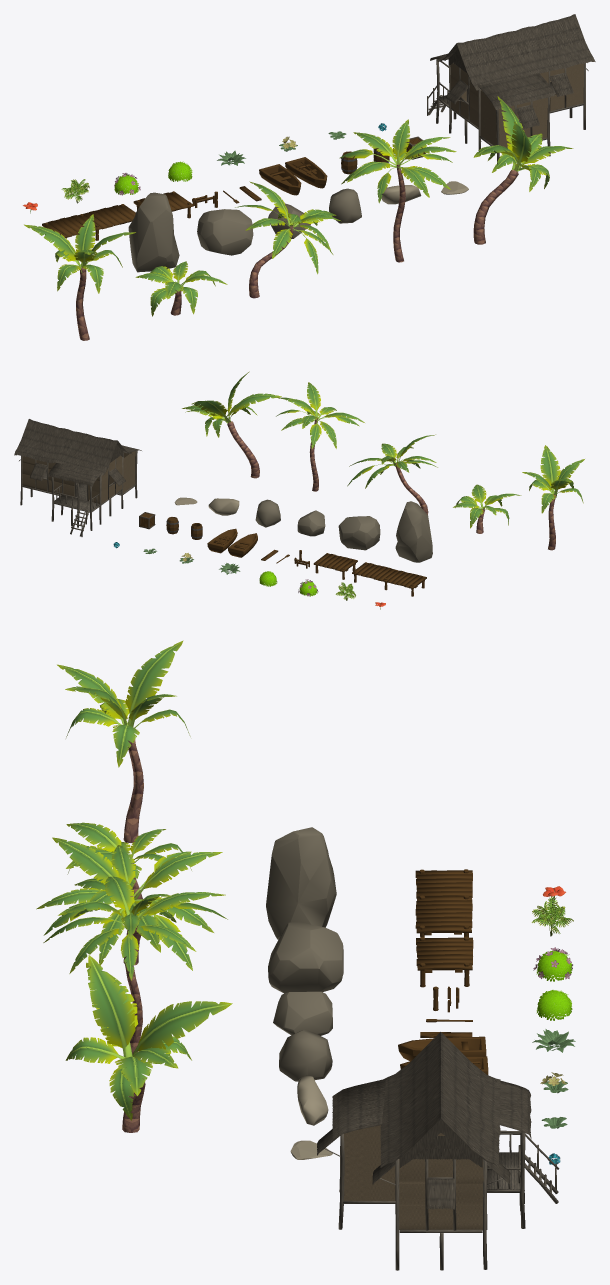
Rendered from TropicalBeachPack.dae.
The picture shows the model from 3 angles, top to bottom: view 1: azimuth 30°, elevation 25°; view 2: azimuth 150°, elevation 25°; view 3: azimuth 270°, elevation 25°; orthographic projection. The views are drawn at different scales.
Parts seen in each view (by area): view 1: StrawShack, PalmTree2, PalmTree1, Rock6, PalmTree5, PalmTree3, Rock3, PalmTree4, DockLong, Rock1, Boat2, Boat1 (+4 smaller); view 2: StrawShack, PalmTree2, PalmTree1, PalmTree5, Rock6, PalmTree3, Rock3, DockLong, PalmTree4, Rock2, DockShort, Rock1 (+3 smaller); view 3: StrawShack, PalmTree1, PalmTree3, PalmTree5, Rock6, PalmTree2, Rock3, DockLong, Rock2, Rock1, PalmTree4, DockShort (+5 smaller).
Part boxes in pixels (box(x1,y1,x2,y2)): StrawShack: box(427, 14, 595, 164); PalmTree2: box(339, 119, 456, 262); PalmTree1: box(473, 96, 573, 244); Rock6: box(128, 192, 179, 272); PalmTree5: box(24, 214, 135, 340); PalmTree3: box(235, 181, 341, 298); Rock3: box(197, 209, 253, 255); PalmTree4: box(135, 261, 227, 316); DockLong: box(42, 204, 135, 240); Rock1: box(329, 188, 361, 223); Boat2: box(259, 164, 301, 195); Boat1: box(285, 157, 327, 188); StrawShack: box(14, 419, 141, 536); PalmTree2: box(276, 382, 364, 491); PalmTree1: box(182, 371, 281, 478); PalmTree5: box(522, 445, 584, 550); Rock6: box(395, 501, 432, 562); PalmTree3: box(347, 434, 437, 514); Rock3: box(338, 516, 380, 550); DockLong: box(352, 562, 426, 596); PalmTree4: box(453, 484, 521, 533); Rock2: box(297, 510, 325, 536); DockShort: box(313, 553, 357, 579); Rock1: box(255, 499, 280, 527); StrawShack: box(317, 1032, 559, 1270); PalmTree1: box(65, 955, 232, 1132); PalmTree3: box(36, 837, 222, 970); PalmTree5: box(57, 640, 190, 842); Rock6: box(266, 827, 336, 939); PalmTree2: box(43, 876, 227, 1053); Rock3: box(268, 922, 343, 993); DockLong: box(415, 869, 472, 937); Rock2: box(273, 991, 332, 1035); Rock1: box(279, 1029, 332, 1081); PalmTree4: box(66, 822, 191, 899); DockShort: box(416, 936, 473, 987).
Size of the model in its own units: 56.06 by 26.71 by 10.78.
